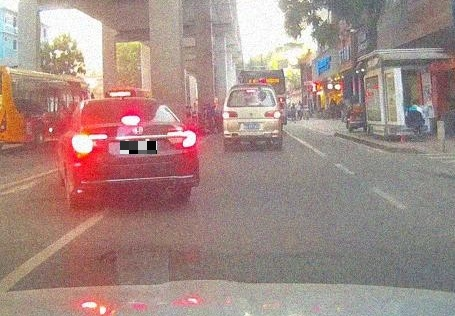L_light: (70, 133, 107, 154), (223, 111, 237, 119)
R_light: (263, 110, 280, 118)
T_light: (121, 116, 141, 125), (246, 90, 256, 93)
day-brake: (222, 87, 281, 151)
day-left: (70, 97, 200, 206)
day-no: (166, 130, 197, 148)
plate_1: (120, 141, 157, 154)
